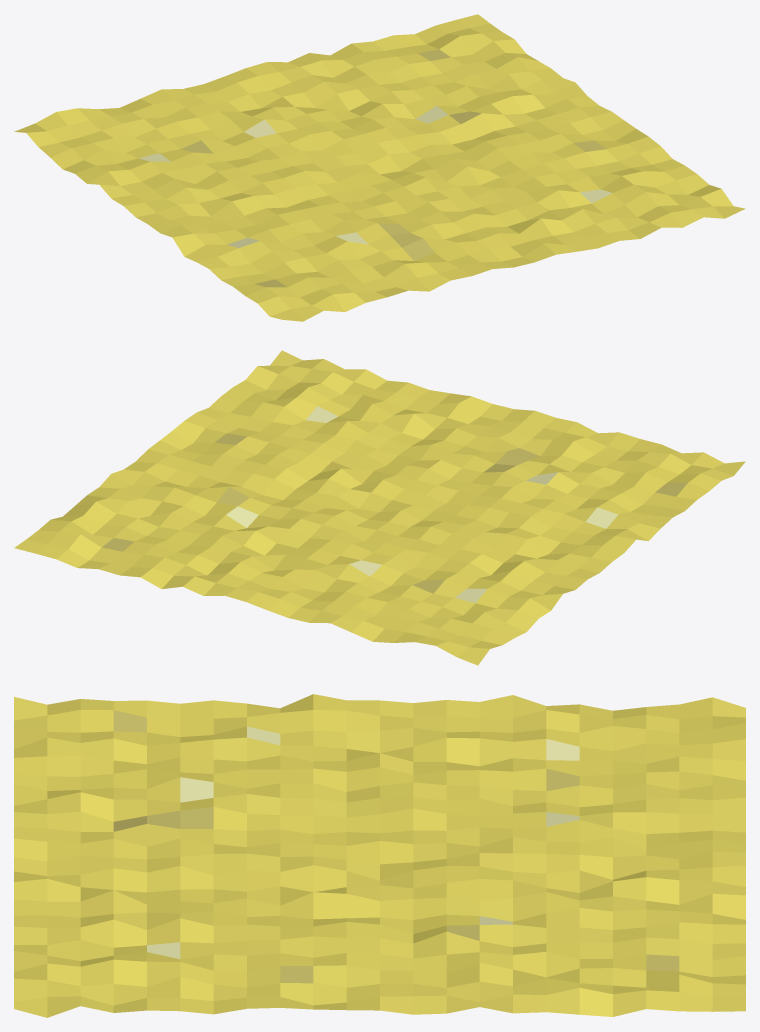
The model's file is beach.glb.
3 views of the same model, one above another, from view 1: azimuth 30°, elevation 25°; view 2: azimuth 150°, elevation 25°; view 3: azimuth 270°, elevation 25° (orthographic). The views are drawn at different scales.
Visible parts, largest first — view 1: Plane; view 2: Plane; view 3: Plane.
Part boxes in pixels (box(x1,y1,x2,y2)): Plane: box(14, 14, 745, 321); Plane: box(14, 350, 745, 665); Plane: box(14, 694, 745, 1017).
Bounding box in the file's own units: 2 × 0.0591 × 2.
